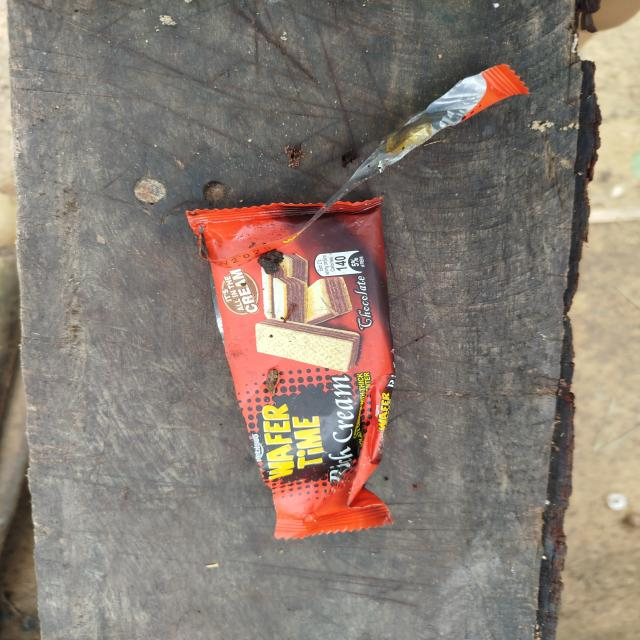residual: (168, 191, 432, 568)
